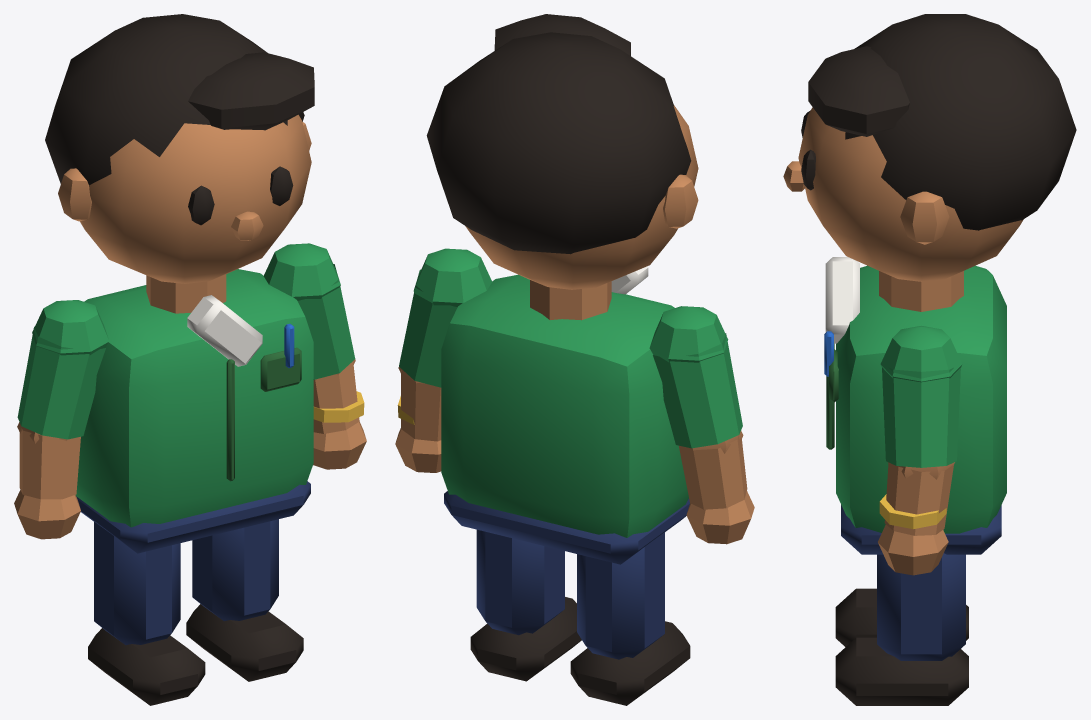
The model's file is munna.glb.
The picture shows the model from 3 angles, left to right: view 1: azimuth 30°, elevation 25°; view 2: azimuth 150°, elevation 25°; view 3: azimuth 270°, elevation 25°; orthographic projection. The views are drawn at different scales.
Visible parts, largest first — view 1: head, body, arm_r, leg_r, leg_l, arm_l; view 2: body, head, arm_r, leg_r, leg_l, arm_l; view 3: head, body, arm_l, leg_l, leg_r.
Part boxes in pixels (x1,y1,x2,y2): head: (45, 14, 314, 283); body: (75, 269, 313, 553); arm_r: (14, 300, 109, 539); leg_r: (88, 521, 205, 705); leg_l: (186, 519, 303, 681); arm_l: (263, 243, 366, 469); body: (441, 266, 689, 564); head: (426, 14, 698, 289); arm_r: (649, 306, 754, 544); leg_r: (570, 532, 690, 705); leg_l: (470, 529, 581, 681); arm_l: (395, 248, 492, 472); head: (783, 14, 1076, 281); body: (824, 257, 1006, 554); arm_l: (878, 326, 962, 575); leg_l: (835, 553, 968, 705); leg_r: (835, 588, 968, 646).
Bounding box in the file's own units: 0.598 × 1.04 × 0.429.
1 material, 1 textured.
